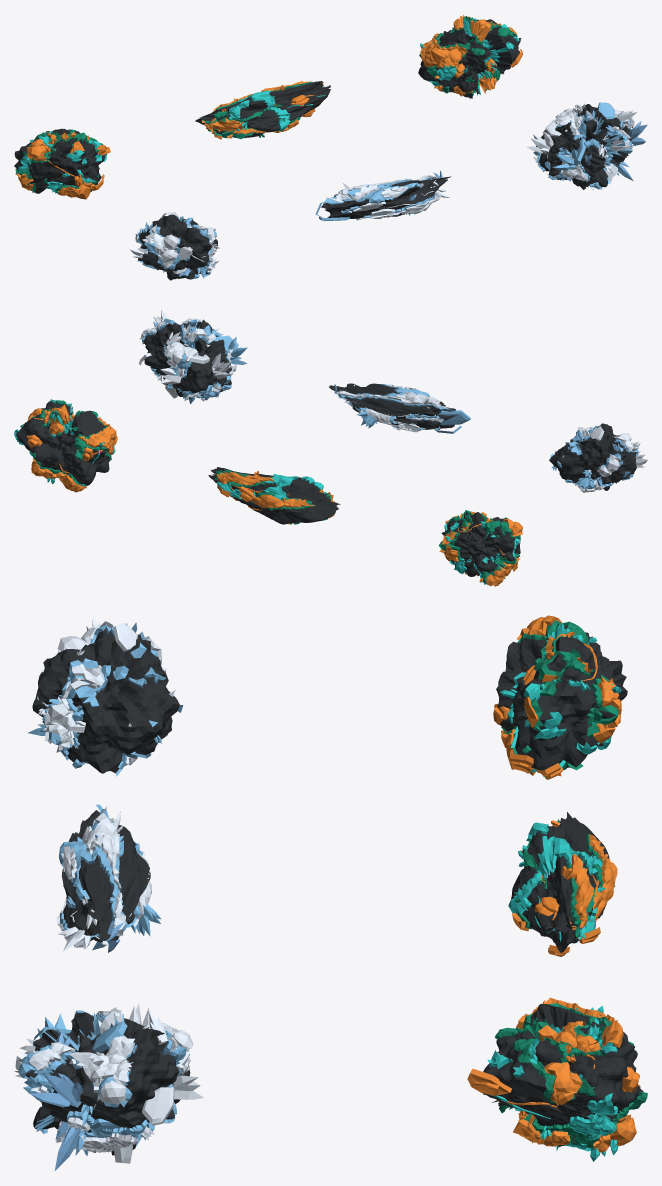
The model's file is ore_asteroids_phase_02_copper_titanium.glb.
3 renders of one model, top to bottom at view 1: azimuth 30°, elevation 25°; view 2: azimuth 150°, elevation 25°; view 3: azimuth 270°, elevation 25°, orthographic. The views are drawn at different scales.
Visible parts, largest first — view 1: TITANIUM_C_ROCK_BODY, COPPER_C_ROCK_BODY, COPPER_A_ROCK_BODY, COPPER_B_ROCK_BODY, TITANIUM_A_ROCK_BODY, COPPER_C_CRUST_COPPER_LAYER, TITANIUM_B_ROCK_BODY, TITANIUM_C_CRUST_SILVER_FRACTURE_LAYER, COPPER_A_CRUST_COPPER_LAYER, TITANIUM_C_CRUST_BLUEGRAY_DEPOSIT, TITANIUM_B_CRUST_SILVER_FRACTURE_LAYER, TITANIUM_B_CRUST_BLUEGRAY_DEPOSIT (+9 smaller); view 2: COPPER_C_ROCK_BODY, TITANIUM_C_ROCK_BODY, TITANIUM_A_ROCK_BODY, COPPER_A_ROCK_BODY, COPPER_B_ROCK_BODY, TITANIUM_B_ROCK_BODY, COPPER_C_CRUST_COPPER_LAYER, TITANIUM_C_CRUST_SILVER_FRACTURE_LAYER, TITANIUM_C_CRUST_BLUEGRAY_DEPOSIT, COPPER_A_CRUST_DARKTURQ_LAYER, TITANIUM_B_CRUST_SILVER_FRACTURE_LAYER, COPPER_B_CRUST_COPPER_LAYER (+8 smaller); view 3: TITANIUM_A_ROCK_BODY, COPPER_A_ROCK_BODY, COPPER_C_ROCK_BODY, TITANIUM_C_ROCK_BODY, TITANIUM_C_CRUST_SILVER_FRACTURE_LAYER, TITANIUM_B_ROCK_BODY, COPPER_C_CRUST_COPPER_LAYER, COPPER_B_ROCK_BODY, COPPER_C_CRUST_DARKTURQ_LAYER, TITANIUM_C_CRUST_BLUEGRAY_DEPOSIT, COPPER_A_CRUST_DARKTURQ_LAYER, TITANIUM_A_CRUST_BLUEGRAY_DEPOSIT (+12 smaller).
Boxes of the visible parts, box(x1,y1,x2,y2) form: TITANIUM_C_ROCK_BODY: box(536, 104, 632, 189); COPPER_C_ROCK_BODY: box(418, 19, 521, 98); COPPER_A_ROCK_BODY: box(14, 128, 105, 193); COPPER_B_ROCK_BODY: box(195, 81, 330, 137); TITANIUM_A_ROCK_BODY: box(138, 214, 217, 280); COPPER_C_CRUST_COPPER_LAYER: box(420, 15, 516, 93); TITANIUM_B_ROCK_BODY: box(321, 176, 451, 218); TITANIUM_C_CRUST_SILVER_FRACTURE_LAYER: box(535, 104, 634, 189); COPPER_A_CRUST_COPPER_LAYER: box(15, 132, 110, 199); TITANIUM_C_CRUST_BLUEGRAY_DEPOSIT: box(533, 110, 632, 189); TITANIUM_B_CRUST_SILVER_FRACTURE_LAYER: box(326, 175, 439, 218); TITANIUM_B_CRUST_BLUEGRAY_DEPOSIT: box(324, 177, 437, 217); COPPER_C_ROCK_BODY: box(16, 401, 110, 485); TITANIUM_C_ROCK_BODY: box(144, 320, 231, 396); TITANIUM_A_ROCK_BODY: box(549, 423, 636, 490); COPPER_A_ROCK_BODY: box(441, 512, 520, 576); COPPER_B_ROCK_BODY: box(208, 467, 340, 524); TITANIUM_B_ROCK_BODY: box(329, 383, 456, 429); COPPER_C_CRUST_COPPER_LAYER: box(27, 404, 117, 492); TITANIUM_C_CRUST_SILVER_FRACTURE_LAYER: box(140, 318, 236, 401); TITANIUM_C_CRUST_BLUEGRAY_DEPOSIT: box(142, 319, 231, 400); COPPER_A_CRUST_DARKTURQ_LAYER: box(439, 510, 520, 583); TITANIUM_B_CRUST_SILVER_FRACTURE_LAYER: box(336, 384, 451, 430); COPPER_B_CRUST_COPPER_LAYER: box(216, 471, 336, 524); TITANIUM_A_ROCK_BODY: box(32, 628, 179, 773); COPPER_A_ROCK_BODY: box(496, 626, 627, 770); COPPER_C_ROCK_BODY: box(483, 1003, 643, 1146); TITANIUM_C_ROCK_BODY: box(25, 1012, 190, 1155); TITANIUM_C_CRUST_SILVER_FRACTURE_LAYER: box(14, 1007, 193, 1152); TITANIUM_B_ROCK_BODY: box(61, 810, 150, 942); COPPER_C_CRUST_COPPER_LAYER: box(513, 997, 636, 1152); COPPER_B_ROCK_BODY: box(511, 812, 609, 952); COPPER_C_CRUST_DARKTURQ_LAYER: box(495, 1003, 647, 1149); TITANIUM_C_CRUST_BLUEGRAY_DEPOSIT: box(18, 1010, 189, 1137); COPPER_A_CRUST_DARKTURQ_LAYER: box(501, 621, 618, 773); TITANIUM_A_CRUST_BLUEGRAY_DEPOSIT: box(42, 625, 183, 776).
Size of the model in its own units: 14.8 by 2.17 by 8.35.
